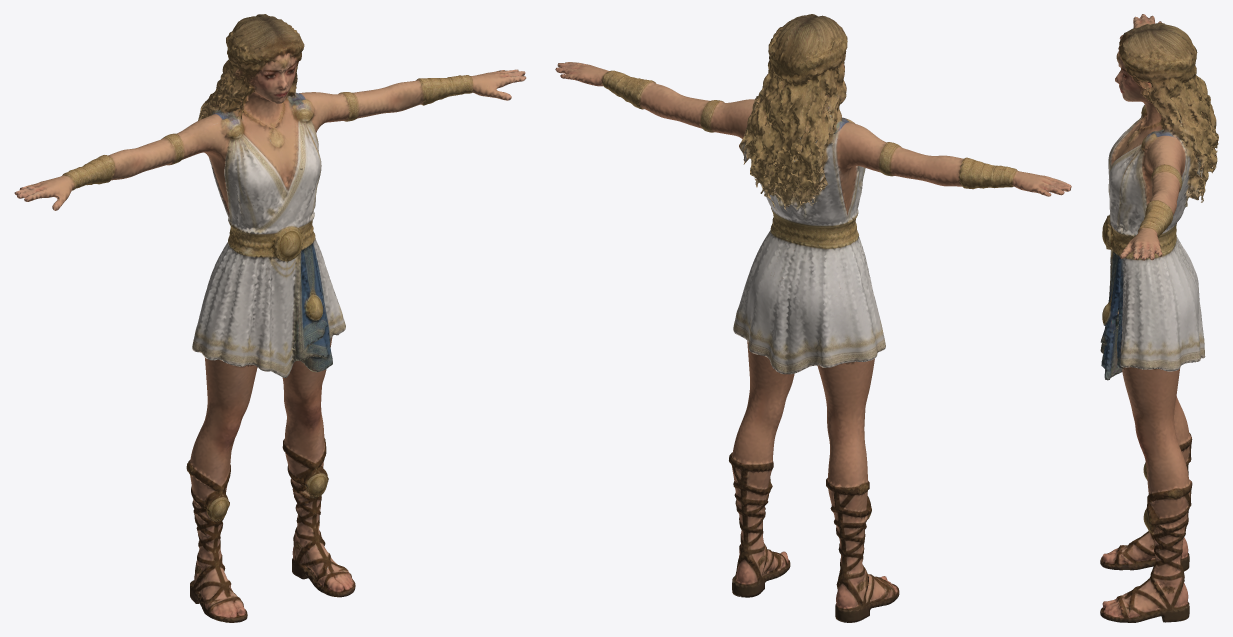
Rendered from raw-welded.glb.
The picture shows the model from 3 angles, left to right: view 1: azimuth 30°, elevation 25°; view 2: azimuth 150°, elevation 25°; view 3: azimuth 270°, elevation 25°; orthographic projection. The views are drawn at different scales.
Parts seen in each view (by area): view 1: Mesh_0; view 2: Mesh_0; view 3: Mesh_0.
Boxes of the visible parts, <box> form: Mesh_0: <box>14,14,526,622</box>; Mesh_0: <box>555,14,1071,622</box>; Mesh_0: <box>1100,14,1218,622</box>.
Bounding box in the file's own units: 1.77 × 1.91 × 0.3643.
1 material, 1 textured.
